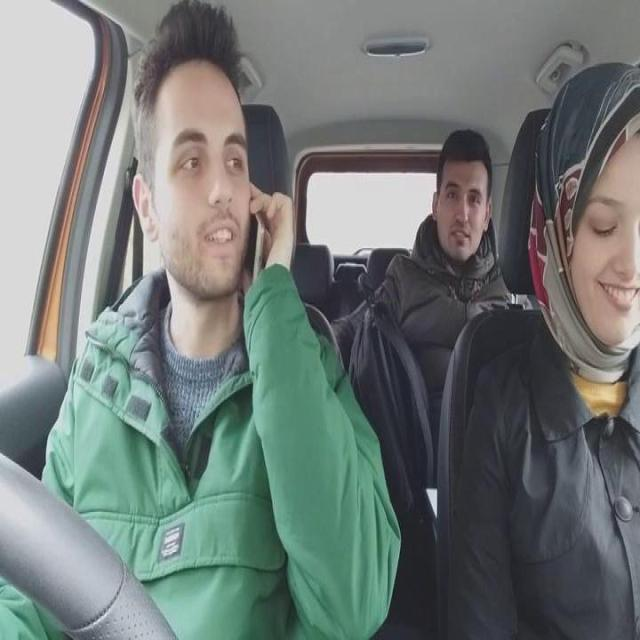phone: (246, 209, 266, 289)
